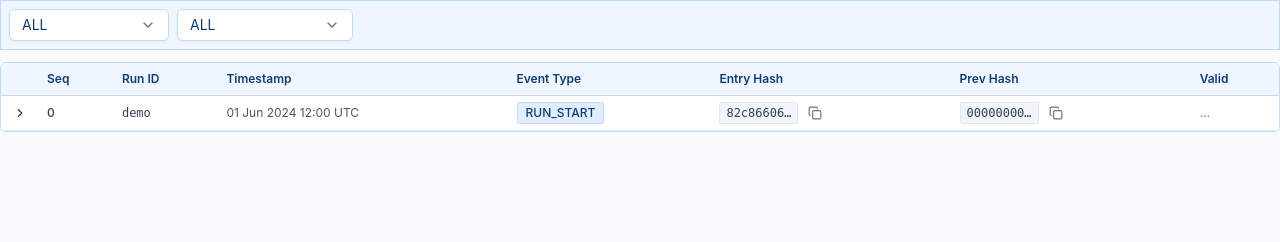
LedgerTable › expands a row to show payload JSON
This screenshot has width=1280, height=242.
Click the button named "Expand entry 0": [20, 113] box x1=9 y1=102 x2=31 y2=124
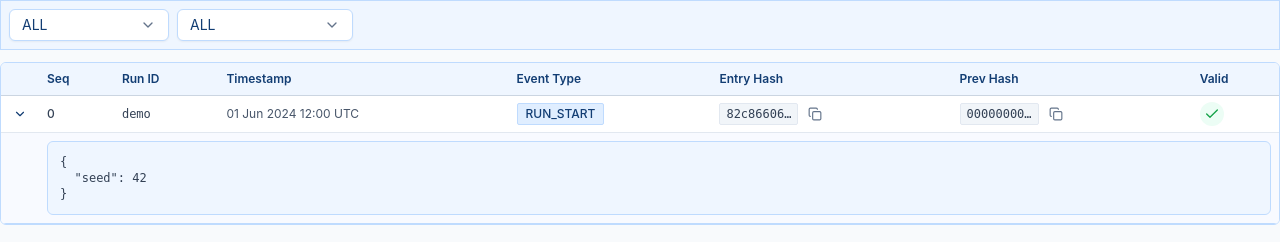
Now the text "{ \"seed\": 42 }" is shown, box x1=47 y1=141 x2=1271 y2=215
